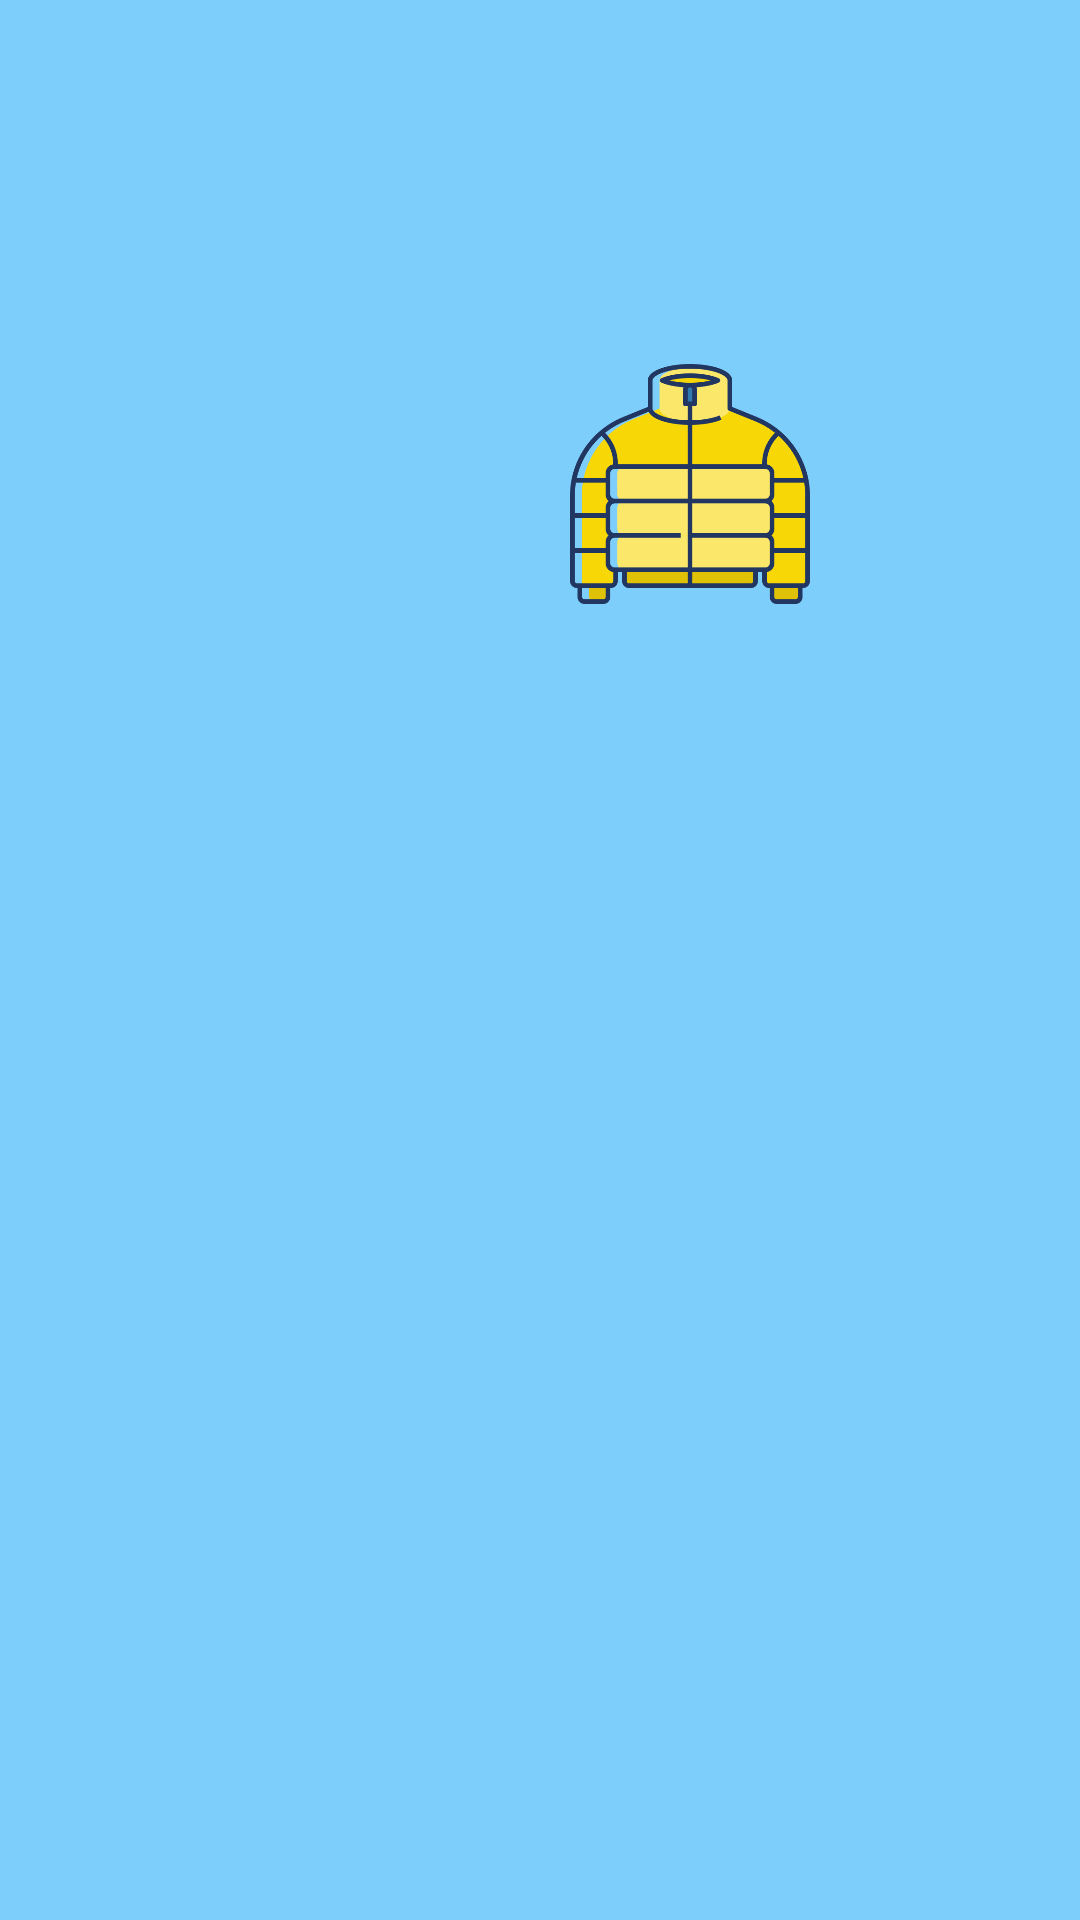

Named icons in this screenshot (1080px x 1920px) and their centers, point (x, y):
current padded jacket: point (690, 484)
